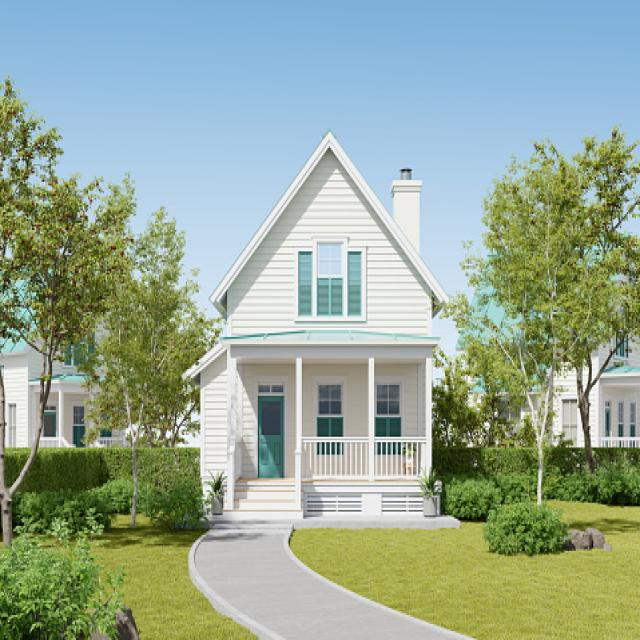building: (177, 125, 458, 531)
